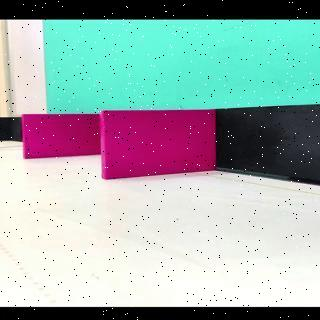xparking: (103, 112, 215, 173), (22, 115, 98, 156)
